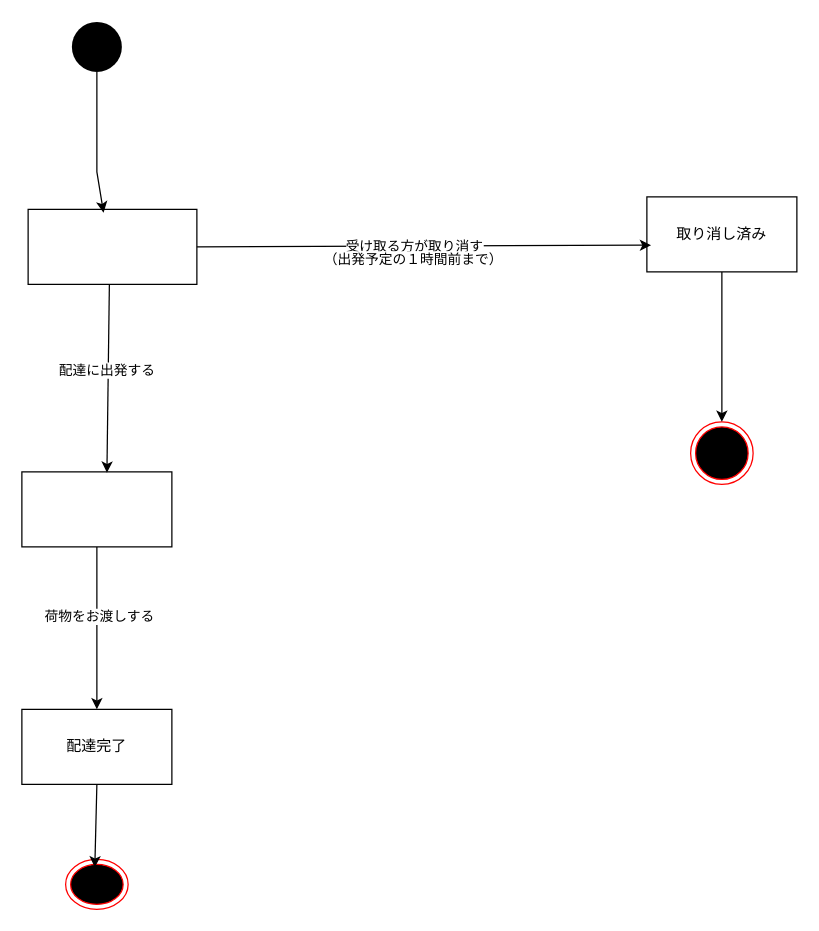
Some shapes in this 819 by 931 pixel diagram are drawn without their labels. Each missing label, with the box of its shape:
受付済み: (27, 208, 197, 284)
配達中: (21, 471, 172, 547)
